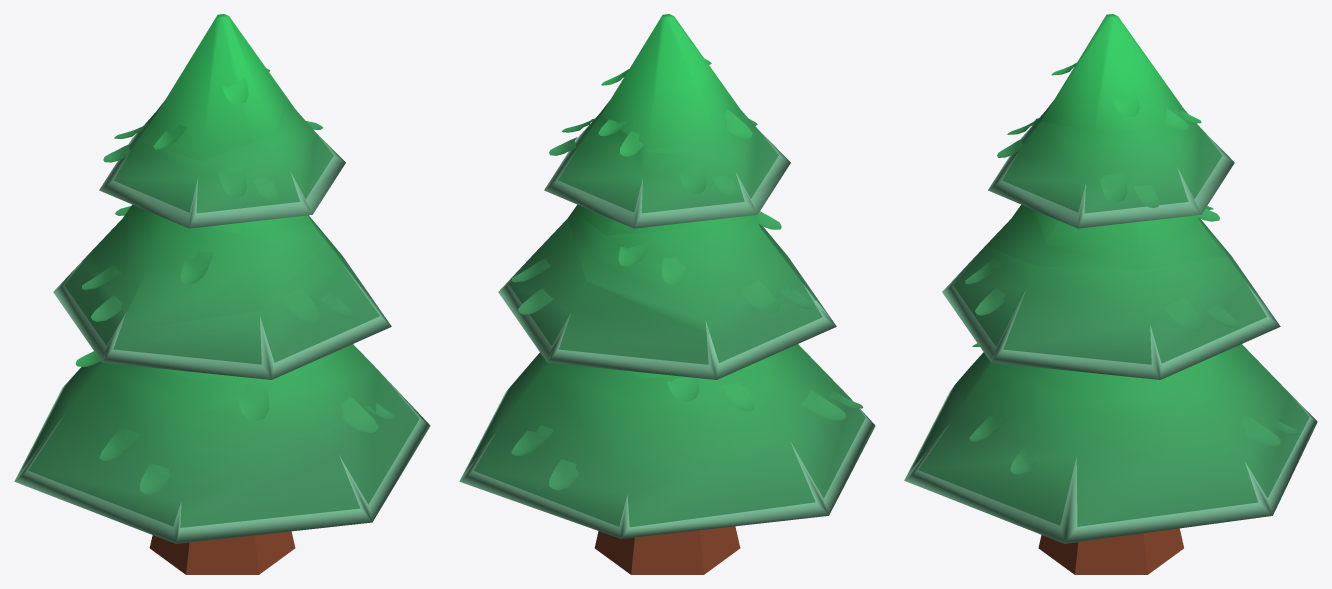
The model's file is Fir_1.fbx.
3 renders of one model, left to right at view 1: azimuth 30°, elevation 25°; view 2: azimuth 150°, elevation 25°; view 3: azimuth 270°, elevation 25°, orthographic.
Visible parts, largest first — view 1: Fir_1; view 2: Fir_1; view 3: Fir_1.
Boxes of the visible parts, box(x1,y1,x2,y2) form: Fir_1: box(14, 14, 430, 574); Fir_1: box(459, 14, 875, 574); Fir_1: box(904, 14, 1317, 574).
Size of the model in its own units: 1.6 by 1.55 by 2.2.
